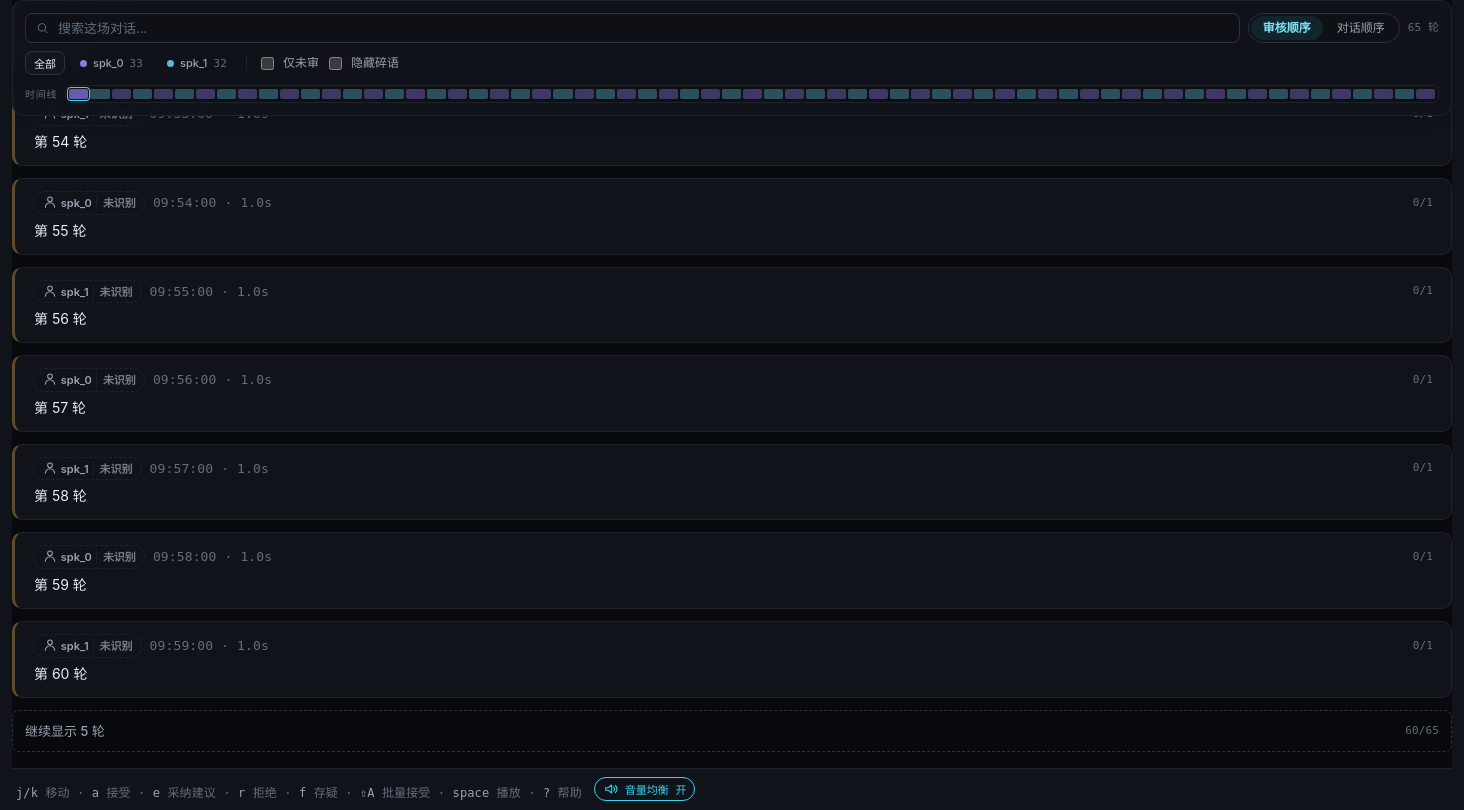
TranscriptReviewPanel › renders long conversations in bounded batches and can reveal the next batch
(page scrolled)
Expected: the button "第 60 轮" is shown, [33,664,88,682]
Expected: the text "第 61 轮" is not shown
Click the button "继续显示 5 轮 60/65" at (53, 731), box [12,710,1452,752]
(page scrolled)
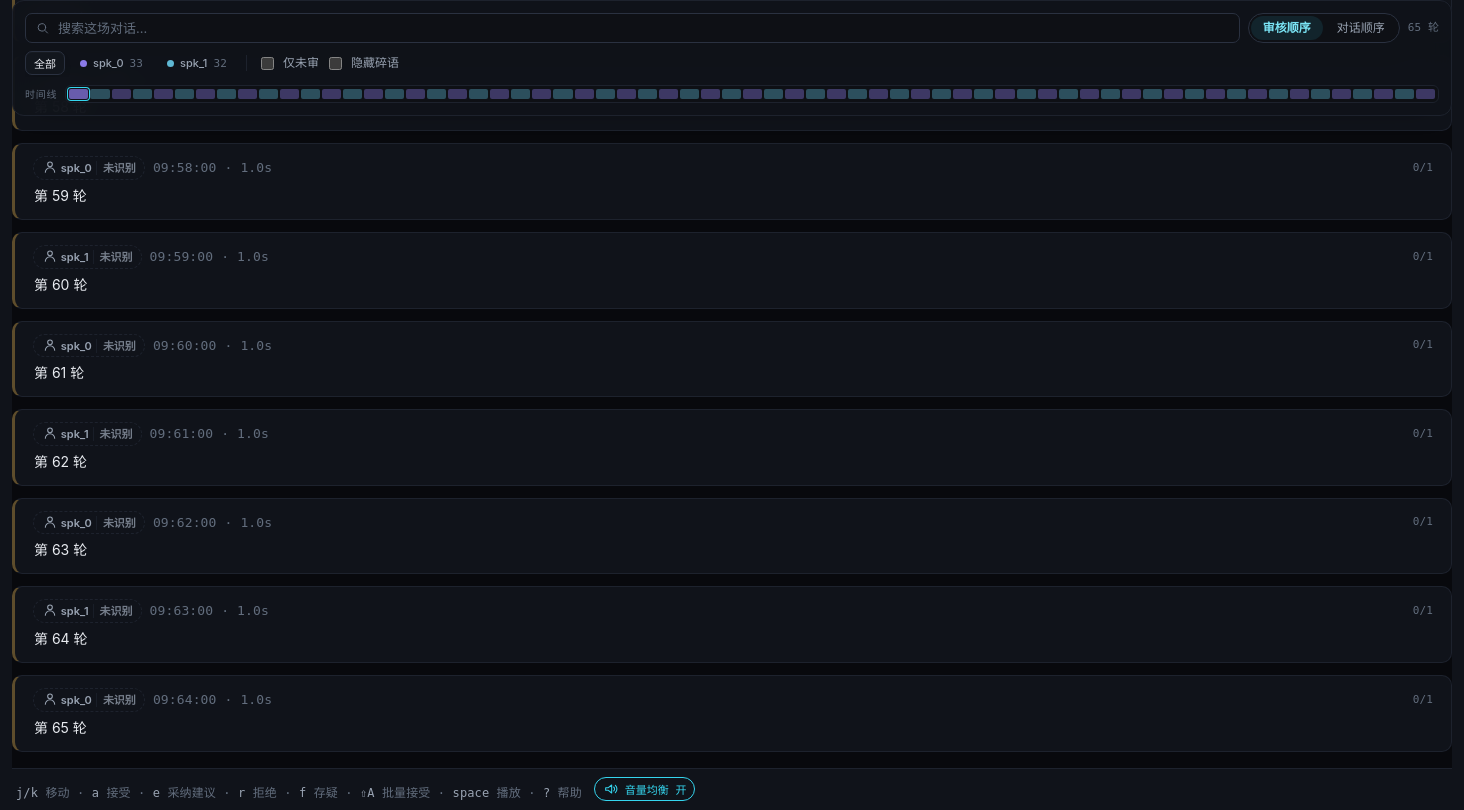
Now the button "第 65 轮" is shown, box [33,718,88,736]
